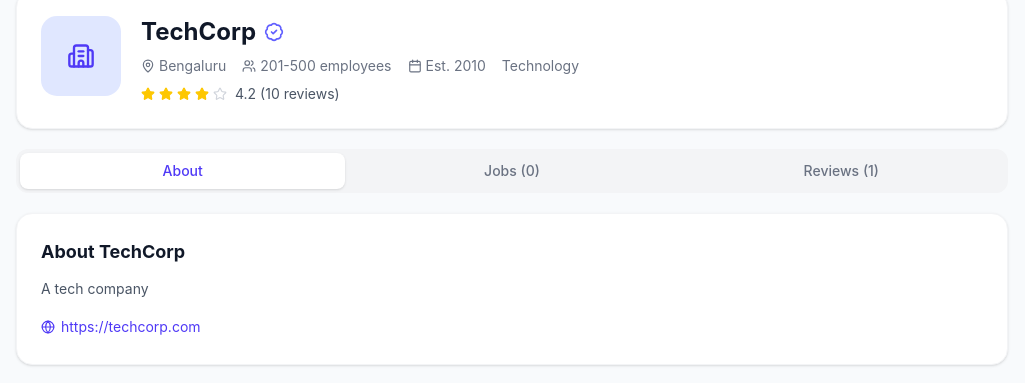
Test: CompanyProfile — jobs tab › shows "No active jobs" when company has no jobs
The width and height of the screenshot is (1025, 383).
Check: the heading "TechCorp" is shown, box [141,16,256,48]
Click the button "jobs (0)" at (512, 171), box [349,153,675,189]
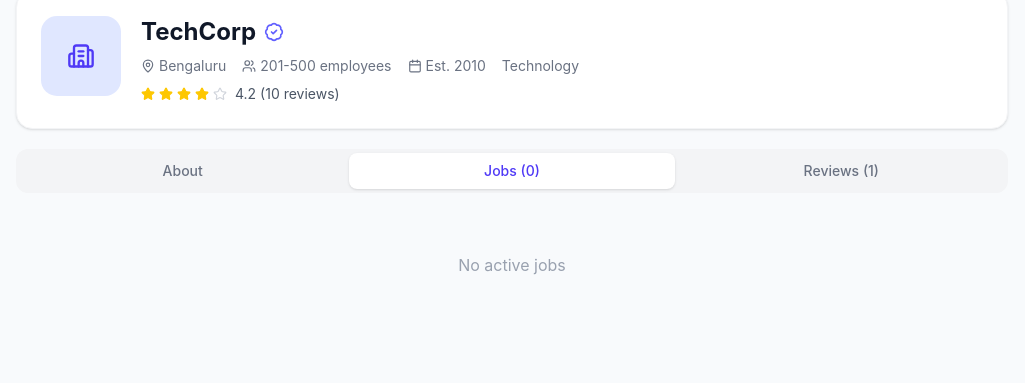
Check: the text "No active jobs" is shown, box [458,255,566,275]
